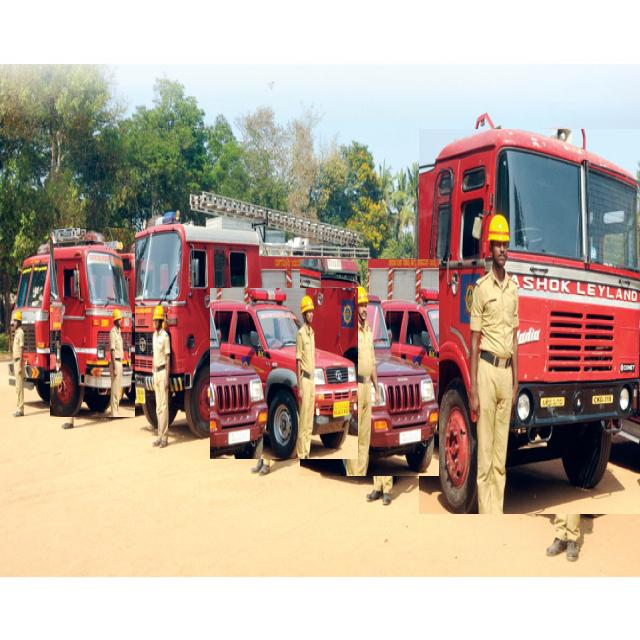car: (300, 260, 439, 476), (210, 289, 358, 459)
emergency: (419, 129, 640, 514), (122, 191, 370, 437), (50, 229, 135, 417)
